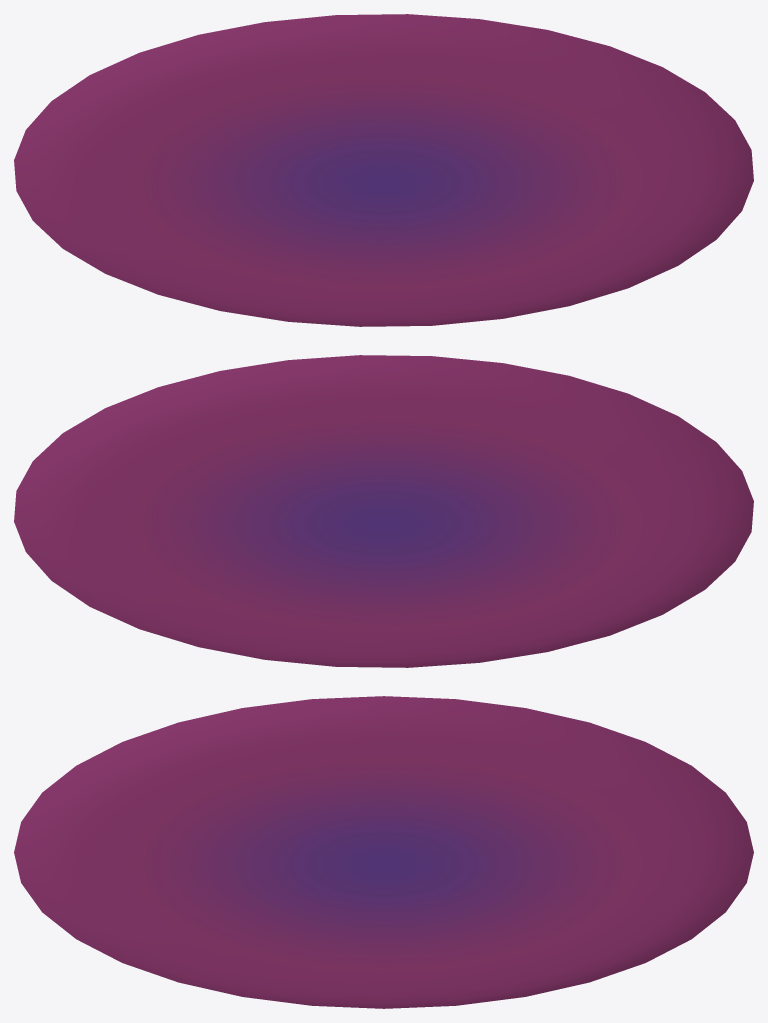
Rendered from Infinite grediant mesh1.fbx.
The picture shows the model from 3 angles, top to bottom: view 1: azimuth 30°, elevation 25°; view 2: azimuth 150°, elevation 25°; view 3: azimuth 270°, elevation 25°; orthographic projection.
Parts seen in each view (by area): view 1: Infinite Gradient meta 2; view 2: Infinite Gradient meta 2; view 3: Infinite Gradient meta 2.
Boxes of the visible parts, x1=… form: Infinite Gradient meta 2: x1=14, y1=14, x2=753, y2=326; Infinite Gradient meta 2: x1=14, y1=355, x2=753, y2=667; Infinite Gradient meta 2: x1=14, y1=696, x2=753, y2=1008.
Bounding box in the file's own units: 4247 × 75.68 × 4247.
